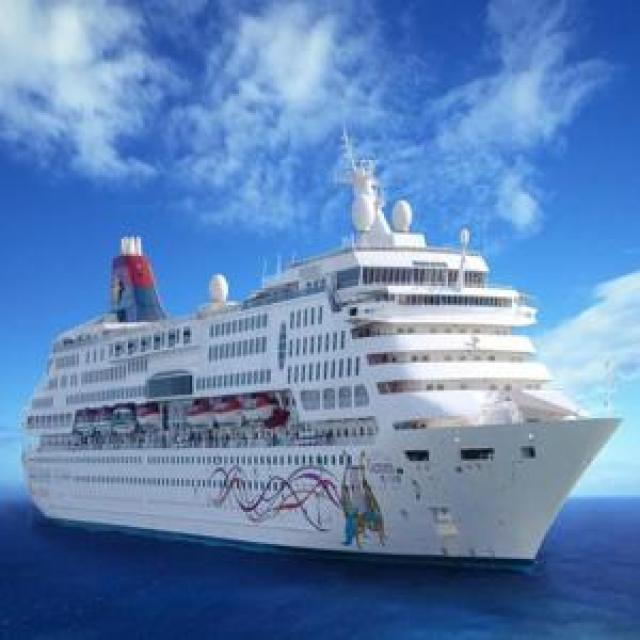passenger ship: (30, 162, 608, 564)
